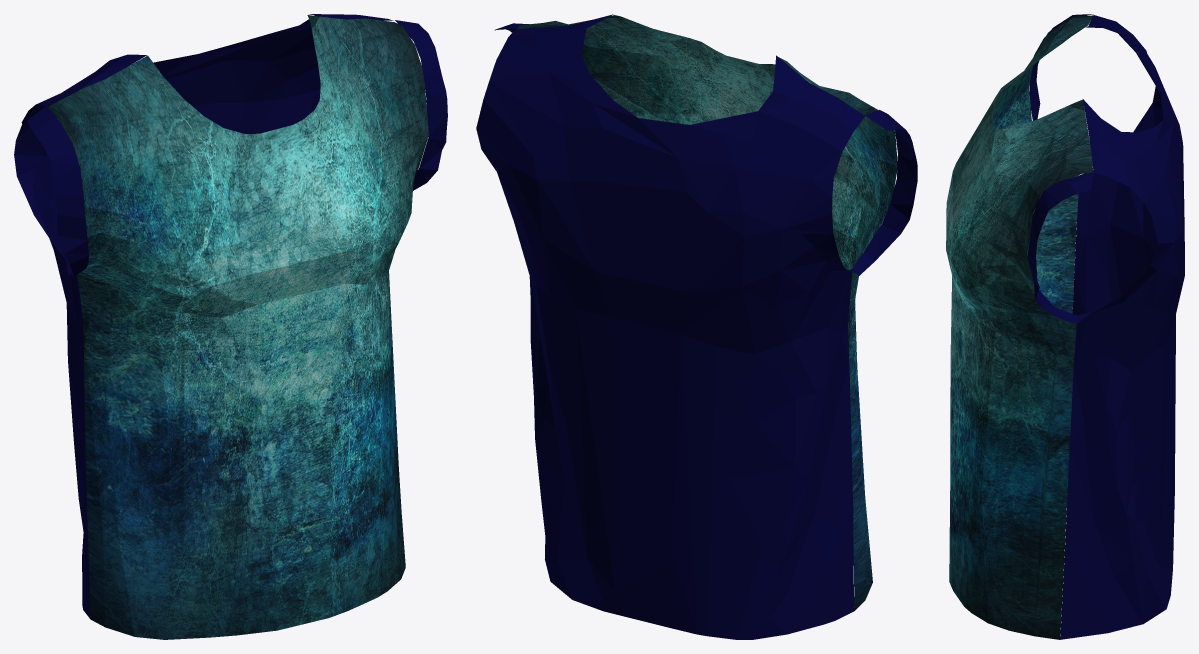
3 renders of one model, left to right at view 1: azimuth 30°, elevation 25°; view 2: azimuth 150°, elevation 25°; view 3: azimuth 270°, elevation 25°, orthographic. The views are drawn at different scales.
Visible parts, largest first — view 1: T_shirt; view 2: T_shirt; view 3: T_shirt.
Boxes of the visible parts, bbox=[...] form: T_shirt: bbox=[14, 14, 447, 639]; T_shirt: bbox=[476, 14, 917, 639]; T_shirt: bbox=[946, 14, 1184, 639].
Bounding box in the file's own units: 0.2935 × 0.3892 × 0.1639.
Materials: 2 (1 with a texture image).
